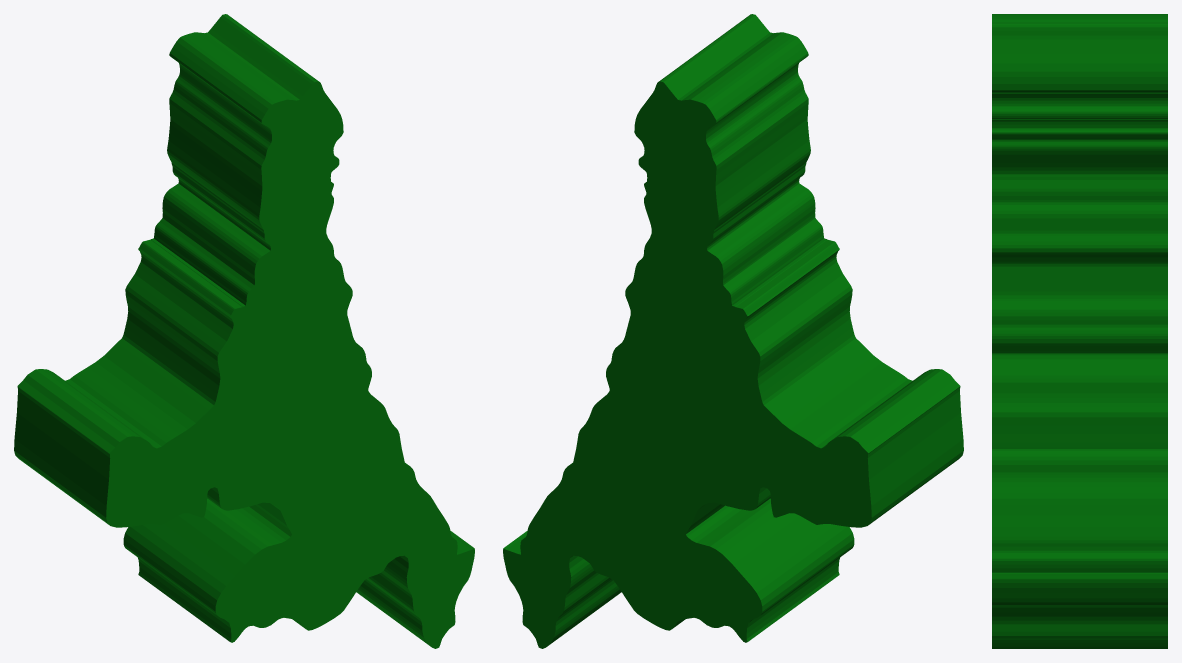
Rendered from leoncioprado.glb.
The picture shows the model from 3 angles, left to right: view 1: azimuth 30°, elevation 25°; view 2: azimuth 150°, elevation 25°; view 3: azimuth 270°, elevation 25°; orthographic projection. The views are drawn at different scales.
Parts seen in each view (by area): view 1: leoncioprado; view 2: leoncioprado; view 3: leoncioprado.
Boxes of the visible parts, <box> form: leoncioprado: <box>14,14,474,648</box>; leoncioprado: <box>503,14,963,648</box>; leoncioprado: <box>992,14,1167,648</box>.
Bounding box in the file's own units: 3.08 × 4.76 × 1.33.
